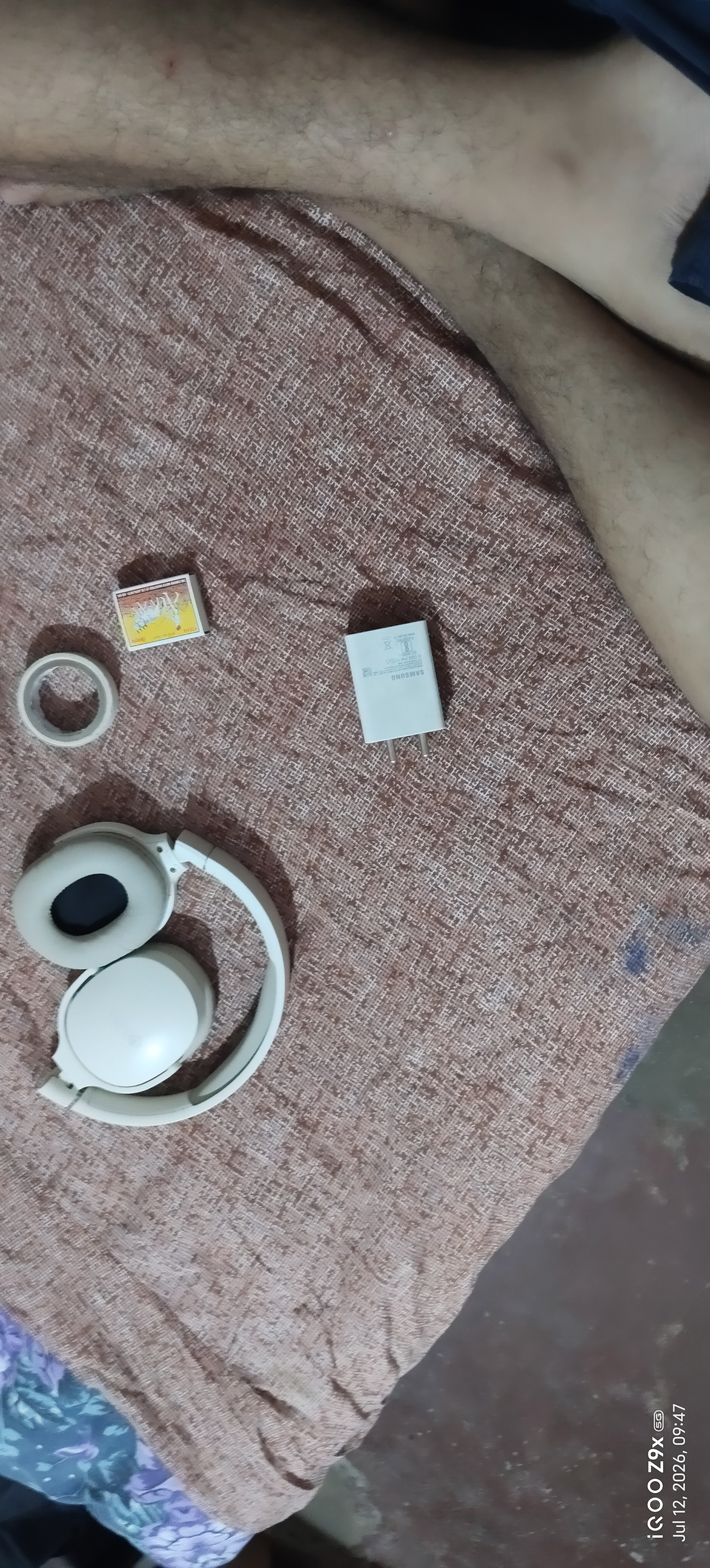charger: (333, 619, 461, 769)
matchbox: (104, 567, 226, 657)
tape_roll: (10, 637, 127, 763)
